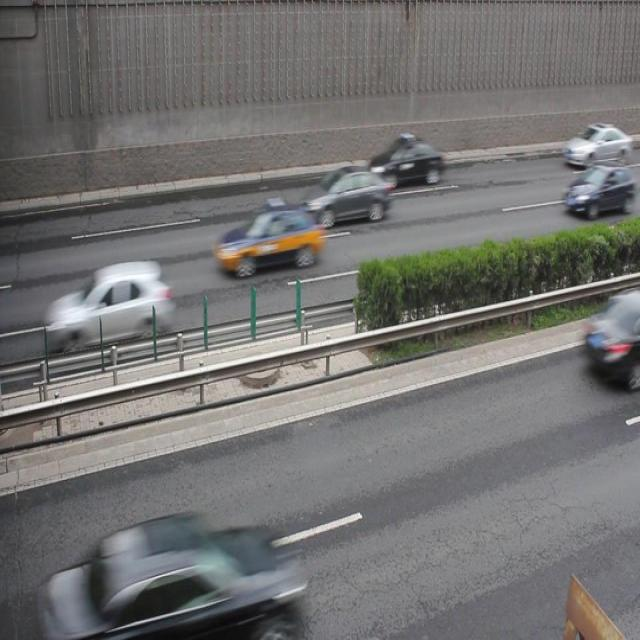car: (66, 511, 303, 640), (43, 258, 173, 352), (214, 204, 324, 277), (299, 164, 392, 228), (582, 290, 640, 389), (368, 133, 442, 189), (560, 160, 629, 218), (561, 121, 627, 167)
